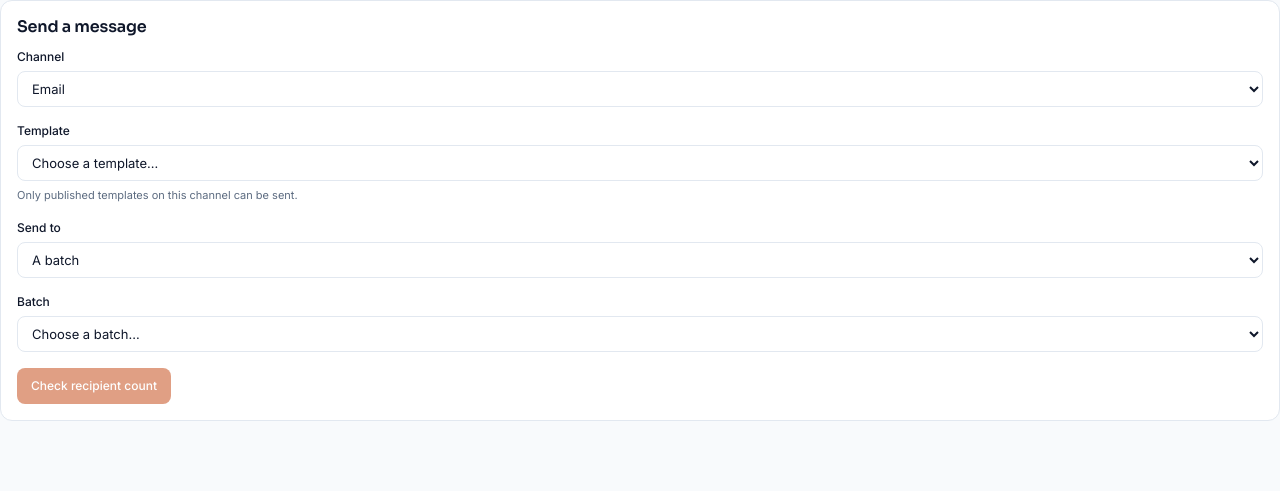
Test: ManualSend — checking the count › shows a review-again state, not a generic error, on a stale-count 409
The image size is (1280, 491).
Select "Batch assigned" in the dropdown labelled "Template" at (640, 163), box [17,145,1263,181]
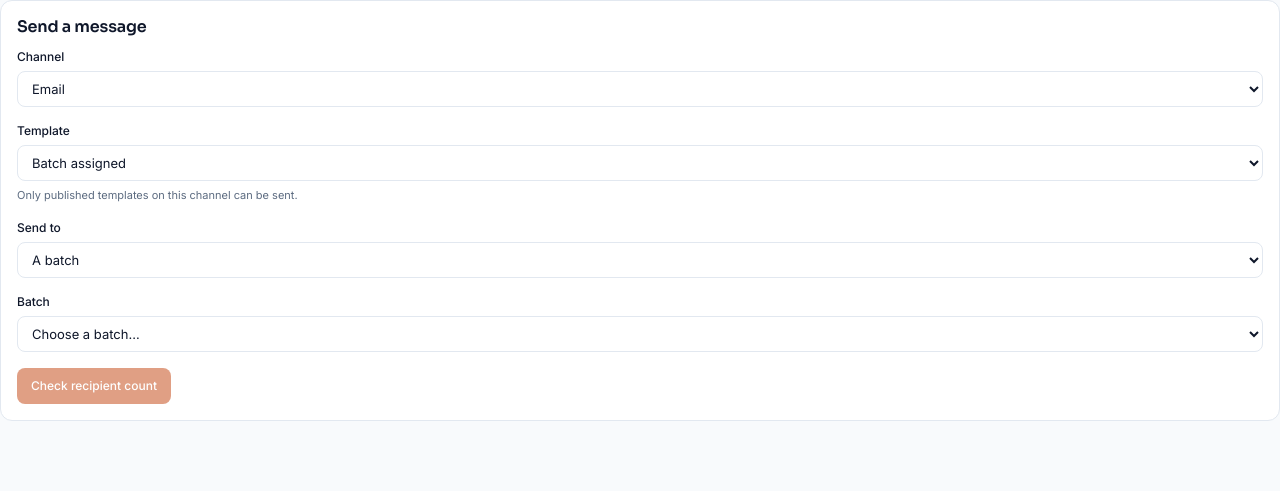
Select "PY-101 · Python mornings" in the dropdown labelled "Batch" at (640, 334), box [17,316,1263,352]
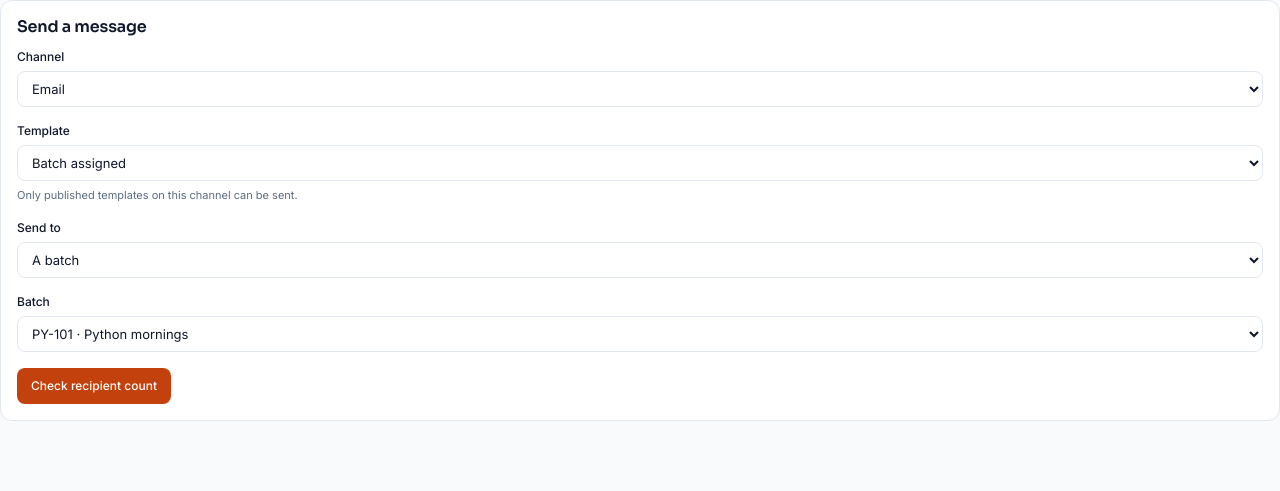
Click the button "Check recipient count" at (94, 386), box [17,368,171,404]
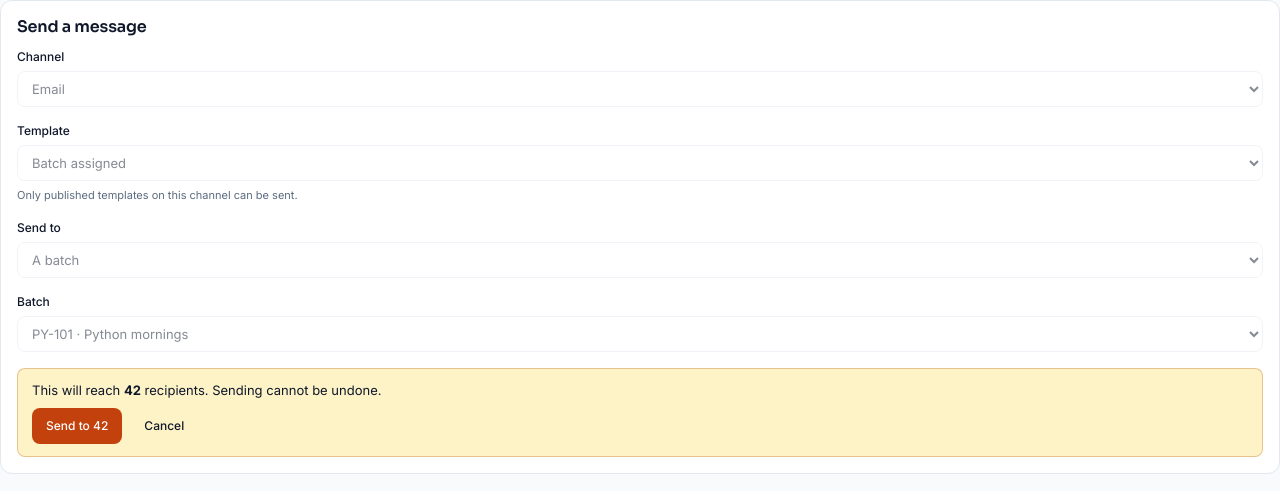
Click the button "Send to 42" at (77, 426), box [32,408,122,444]
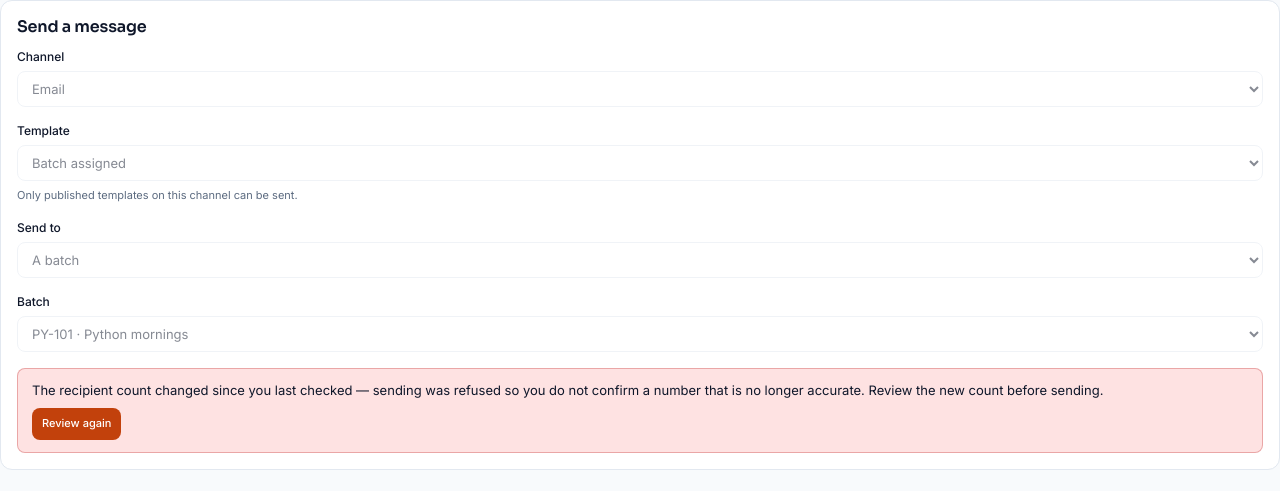
expect the message with test id "send-count-stale" shows "changed": met, box [32,382,1103,398]
expect the message with test id "send-count-confirm" is gone: met
Click the button "Review again" at (77, 424), box [32,408,121,440]
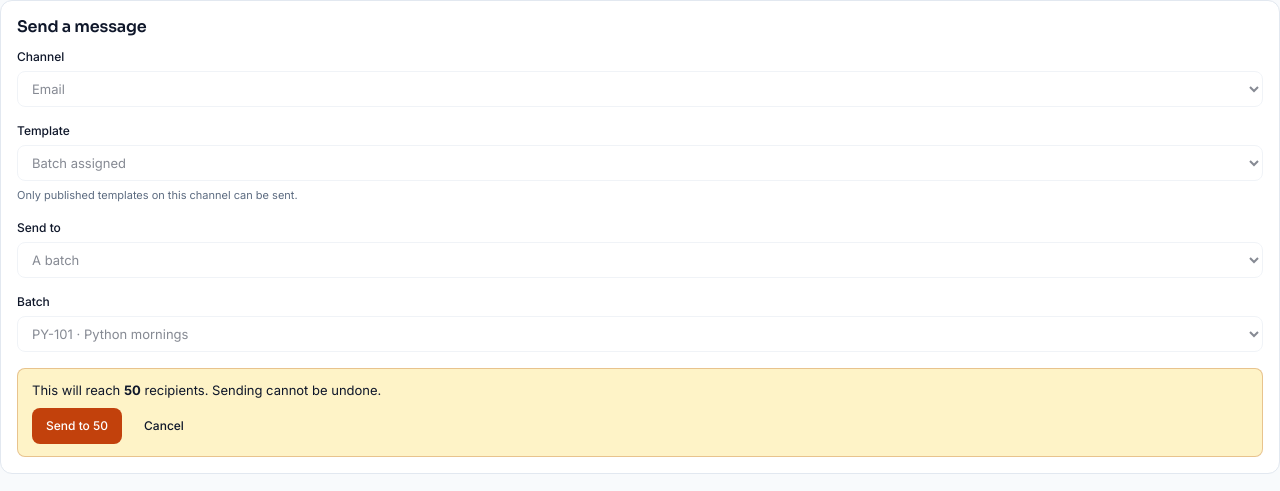
expect the message with test id "send-count-confirm" shows "50": met, box [124,382,141,398]
